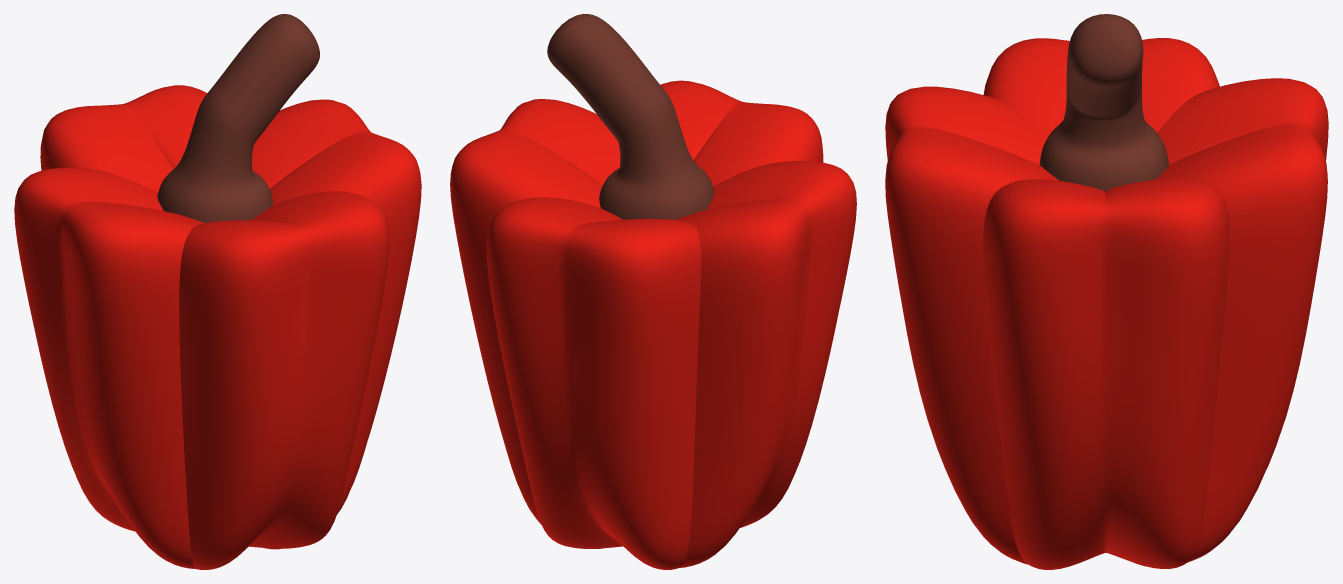
Rendered from Red_Pepper.fbx.
3 views of the same model, side by side, from view 1: azimuth 30°, elevation 25°; view 2: azimuth 150°, elevation 25°; view 3: azimuth 270°, elevation 25° (orthographic). The views are drawn at different scales.
Parts seen in each view (by area): view 1: Red_Pepper; view 2: Red_Pepper; view 3: Red_Pepper.
Part boxes in pixels (<box>): Red_Pepper: <box>14,14,421,569</box>; Red_Pepper: <box>450,14,856,569</box>; Red_Pepper: <box>885,14,1328,569</box>.
Bounding box in the file's own units: 3.34 × 4.77 × 3.39.
